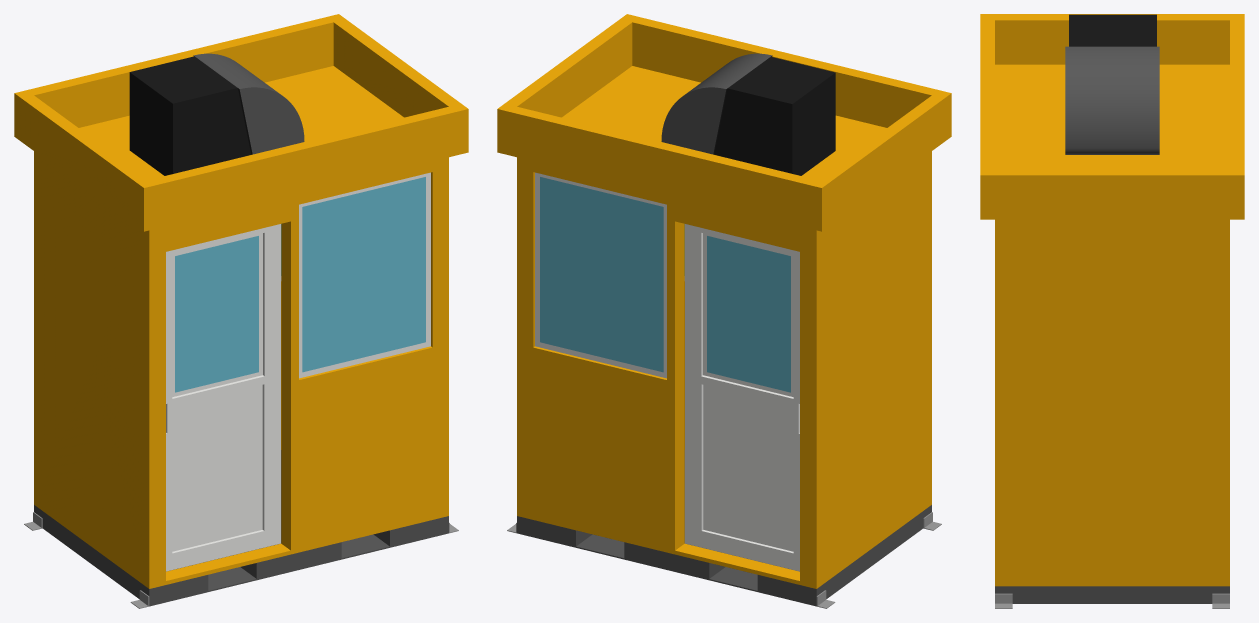
File: 02-rizon-pegasus-gb-test.fbx
The picture shows the model from 3 angles, left to right: view 1: azimuth 30°, elevation 25°; view 2: azimuth 150°, elevation 25°; view 3: azimuth 270°, elevation 25°; orthographic projection.
Parts seen in each view (by area): view 1: Main Station (2) (1), OVerhang, Door Frame (1), Big Window 1 (1), Body22, Door Window 1 (1), Main Station (2), Big Window Frame 1 (1); view 2: Main Station (2) (1), OVerhang, Door Frame, Big Window 1, Body22, Door Window 1, Main Station (2), Big Window Frame 1; view 3: Main Station (2) (1), OVerhang, Body22, Main Station (2).
Part boxes in pixels (bbox=[...]): Main Station (2) (1): bbox=[34, 66, 448, 588]; OVerhang: bbox=[14, 14, 468, 231]; Door Frame (1): bbox=[166, 224, 280, 571]; Big Window 1 (1): bbox=[302, 177, 425, 372]; Body22: bbox=[129, 53, 304, 175]; Door Window 1 (1): bbox=[175, 236, 258, 392]; Main Station (2): bbox=[34, 505, 448, 606]; Big Window Frame 1 (1): bbox=[299, 172, 430, 378]; Main Station (2) (1): bbox=[517, 66, 931, 588]; OVerhang: bbox=[497, 14, 951, 231]; Door Frame: bbox=[685, 224, 799, 571]; Big Window 1: bbox=[540, 177, 663, 372]; Body22: bbox=[661, 53, 835, 175]; Door Window 1: bbox=[707, 236, 790, 392]; Main Station (2): bbox=[517, 505, 931, 606]; Big Window Frame 1: bbox=[535, 172, 666, 378]; Main Station (2) (1): bbox=[995, 64, 1229, 586]; OVerhang: bbox=[980, 14, 1244, 219]; Body22: bbox=[1065, 14, 1159, 154]; Main Station (2): bbox=[995, 586, 1229, 603].
Bounding box in the file's own units: 6.5 × 8.83 × 4.5.
